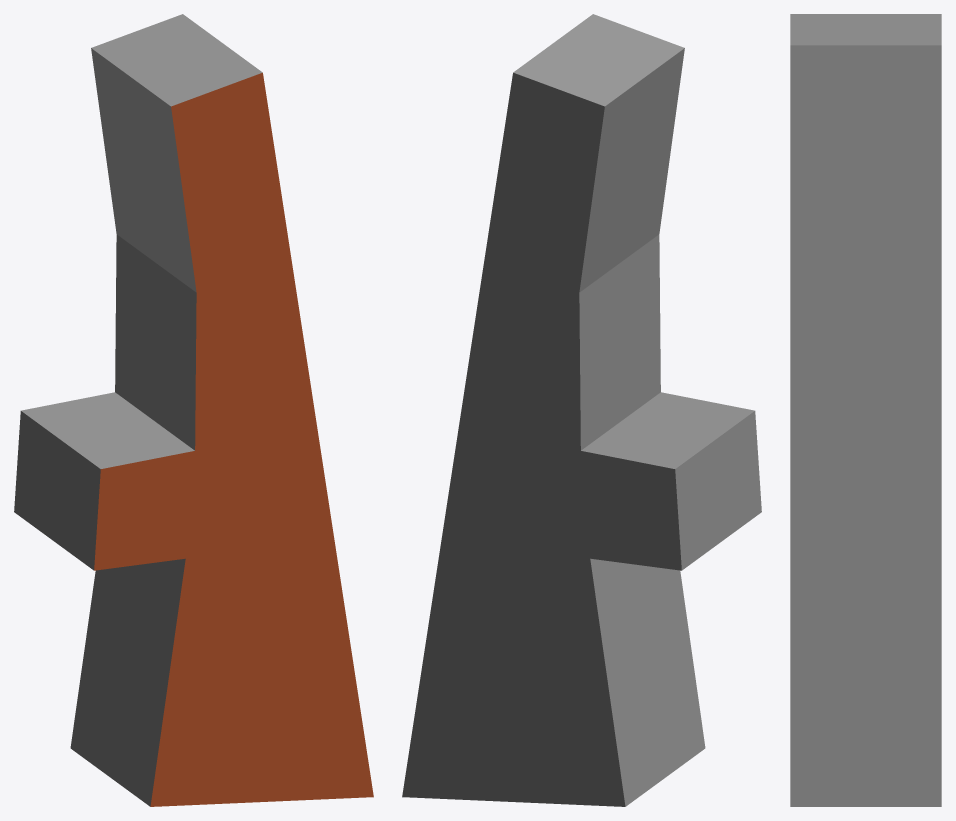
Rendered from construction_1615_assumed_A_Casa_h6m.obj.
3 renders of one model, left to right at view 1: azimuth 30°, elevation 25°; view 2: azimuth 150°, elevation 25°; view 3: azimuth 270°, elevation 25°, orthographic. The views are drawn at different scales.
Parts seen in each view (by area): view 1: construction_1615_assumed_A_Casa; view 2: construction_1615_assumed_A_Casa; view 3: construction_1615_assumed_A_Casa.
Part boxes in pixels (<box>): construction_1615_assumed_A_Casa: <box>14,14,373,806</box>; construction_1615_assumed_A_Casa: <box>402,14,761,806</box>; construction_1615_assumed_A_Casa: <box>790,14,941,806</box>.
Bounding box in the file's own units: 12.11 × 31.09 × 6.
